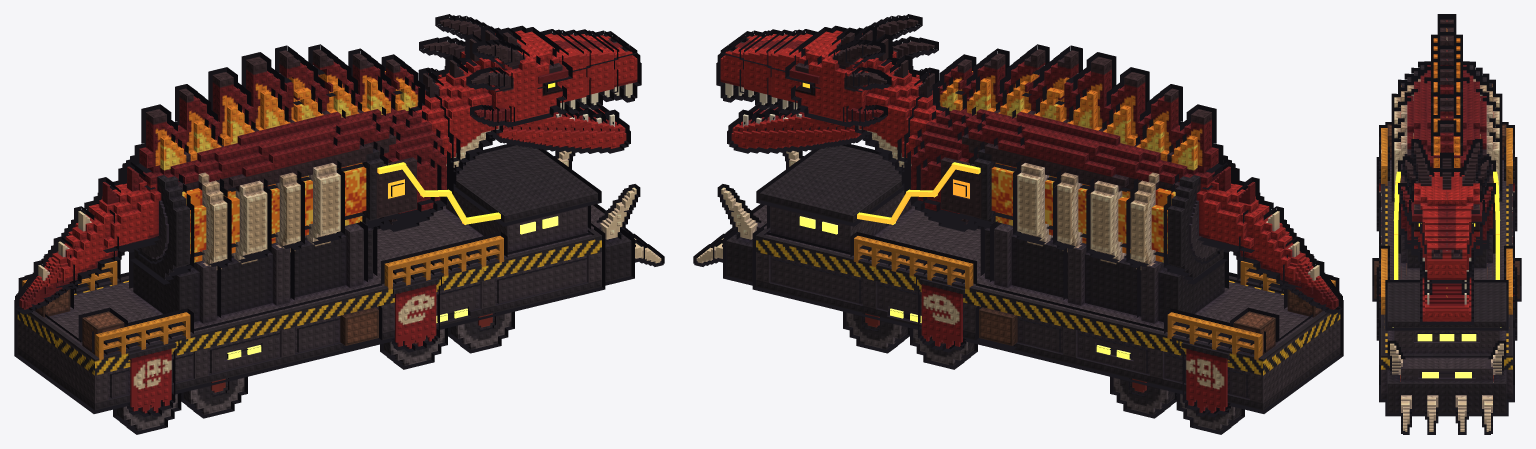
The model's file is fire_dragon.glb.
3 renders of one model, left to right at view 1: azimuth 30°, elevation 25°; view 2: azimuth 150°, elevation 25°; view 3: azimuth 270°, elevation 25°, orthographic. The views are drawn at different scales.
Visible parts, largest first — view 1: Wagon, Body, Head, Jaw, Neck, Tail1, Lava, Tail2, Tail3; view 2: Wagon, Body, Head, Jaw, Neck, Tail1, Lava, Tail2, Tail3; view 3: Wagon, Body, Head, Jaw, PipeL4, PipeR4, PipeL2, PipeR2.
Part boxes in pixels (left/top/right/bottom): Wagon: left=14, top=144, right=664, bottom=434; Body: left=118, top=44, right=456, bottom=323; Head: left=419, top=14, right=641, bottom=140; Jaw: left=493, top=105, right=630, bottom=153; Neck: left=418, top=55, right=496, bottom=174; Tail1: left=88, top=161, right=161, bottom=262; Lava: left=182, top=162, right=366, bottom=265; Tail2: left=51, top=200, right=118, bottom=290; Tail3: left=15, top=236, right=74, bottom=314; Wagon: left=693, top=144, right=1343, bottom=434; Body: left=901, top=44, right=1239, bottom=323; Head: left=716, top=14, right=938, bottom=140; Jaw: left=727, top=105, right=864, bottom=153; Neck: left=861, top=55, right=939, bottom=174; Tail1: left=1196, top=161, right=1269, bottom=262; Lava: left=991, top=162, right=1175, bottom=265; Tail2: left=1239, top=200, right=1306, bottom=290; Tail3: left=1283, top=236, right=1342, bottom=314; Wagon: left=1372, top=122, right=1521, bottom=434; Body: left=1391, top=14, right=1502, bottom=268; Head: left=1398, top=139, right=1495, bottom=292; Jaw: left=1420, top=267, right=1473, bottom=324; PipeL4: left=1495, top=232, right=1499, bottom=267; PipeR4: left=1394, top=232, right=1398, bottom=267; PipeL2: left=1494, top=181, right=1500, bottom=220; PipeR2: left=1393, top=181, right=1399, bottom=220.
Size of the model in its own units: 44.68 by 21.48 by 10.88.
7 materials, 3 textured.
